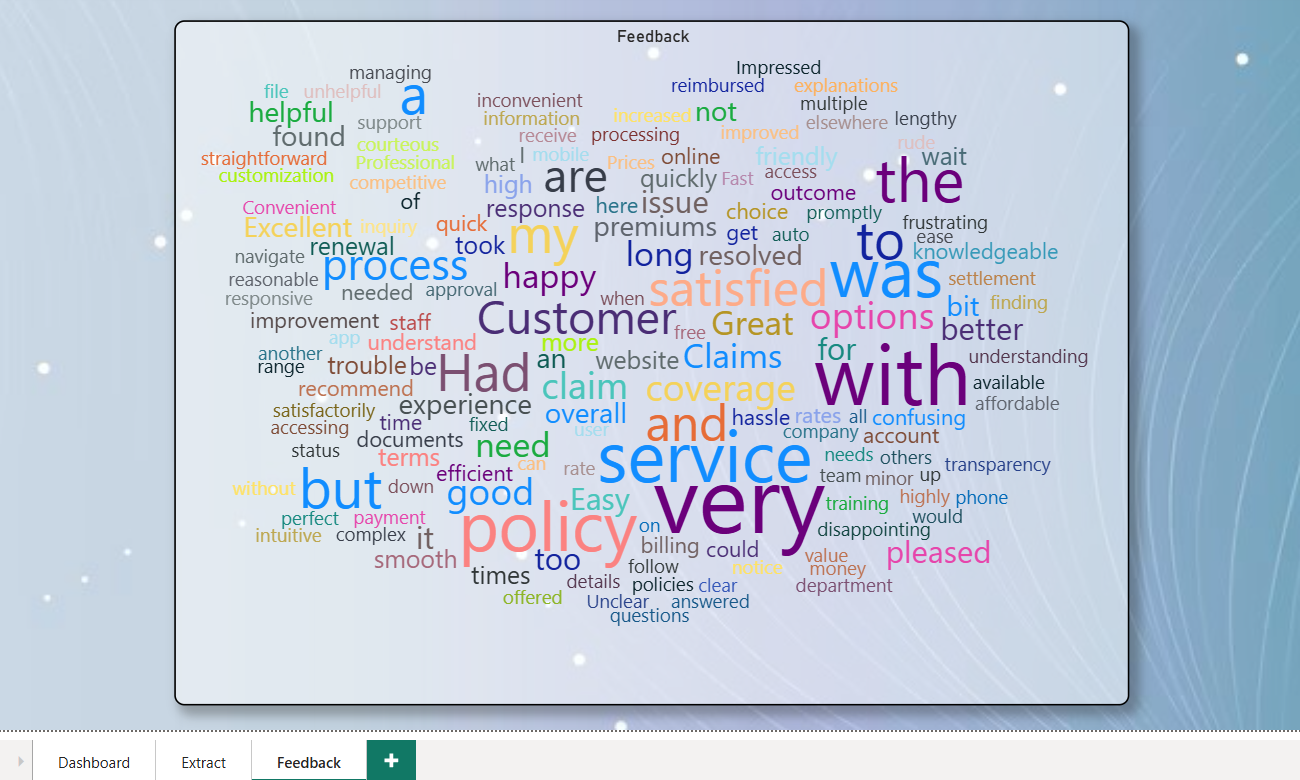

Layout of this report page (visuals, bound fields, positions):
{"tool":"powerbi","page":{"name":"Feedback","canvas":[1280,720],"ordinal":2},"visuals":[{"type":"image","box":[0,0,1280.3,720.2],"z":0},{"type":"WordCloud1447959067750","fields":{"Category":["InsuranceFeedback.Feedback"]},"box":[172.4,25.7,934.2,670.1],"z":1000}]}

Visuals, with their boxes on the page's 1280x720 design canvas (x1, y1, x2, y2). These are canvas units, not pixel positions in the 1300x780 screenshot, which may show the page scaled, cropped or inside an application window:
image: <bbox>0, 0, 1280, 720</bbox>
WordCloud1447959067750 - InsuranceFeedback.Feedback: <bbox>172, 26, 1107, 696</bbox>
